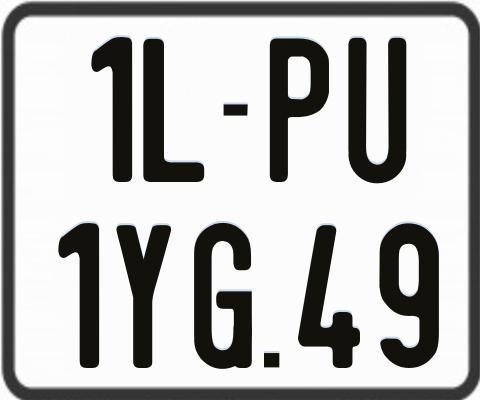1: (88, 37, 134, 187), (57, 221, 102, 372)
4: (298, 223, 364, 368)
9: (379, 221, 441, 370)
G: (193, 221, 253, 372)
L: (142, 38, 204, 185)
P: (267, 36, 327, 181)
U: (345, 38, 404, 185)
Y: (114, 223, 174, 370)
